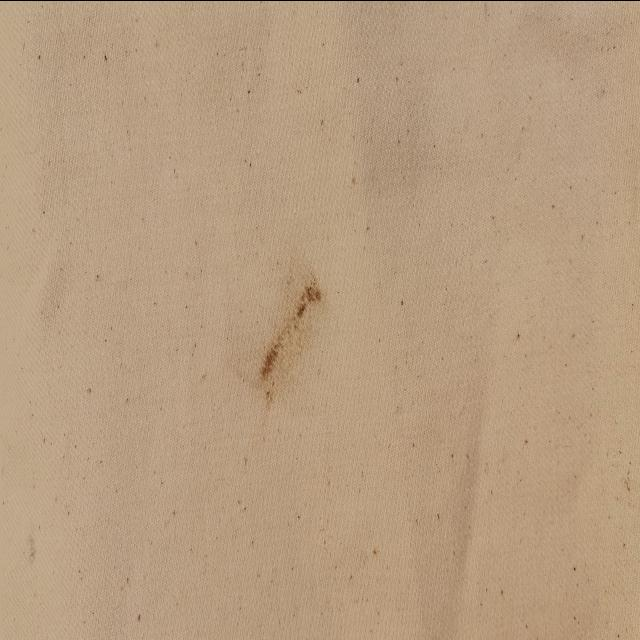taaaches: (238, 248, 339, 410)
